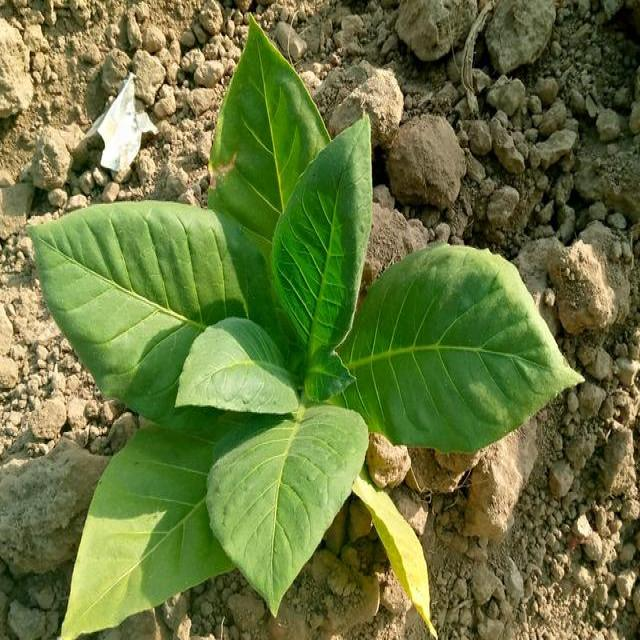crop: (43, 35, 582, 640)
